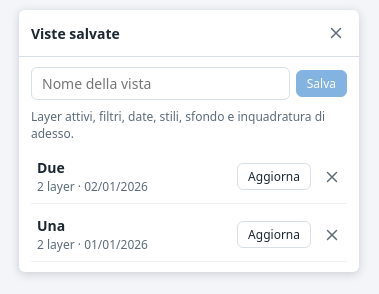
ViewsPanel con controllo accessi (PostGIS) › eliminare chiede conferma (due clic) e poi toglie la riga
Expected: the button "Una 2 layer · 01/01/2026" is shown, [31, 212, 231, 257]
Click the button named "Elimina Una" at (332, 234), box [317, 220, 347, 250]
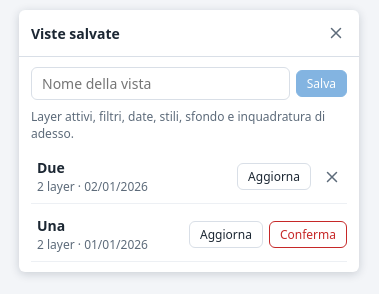
Click the button "Conferma" at (308, 234), box [269, 221, 347, 248]
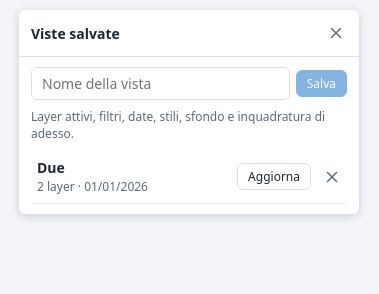
Expected: the button "Due 2 layer · 01/01/2026" is shown, [31, 154, 231, 199]
Result: the button "Una" is gone
